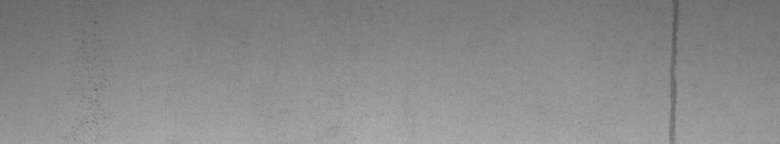hd: (665, 4, 680, 136)
